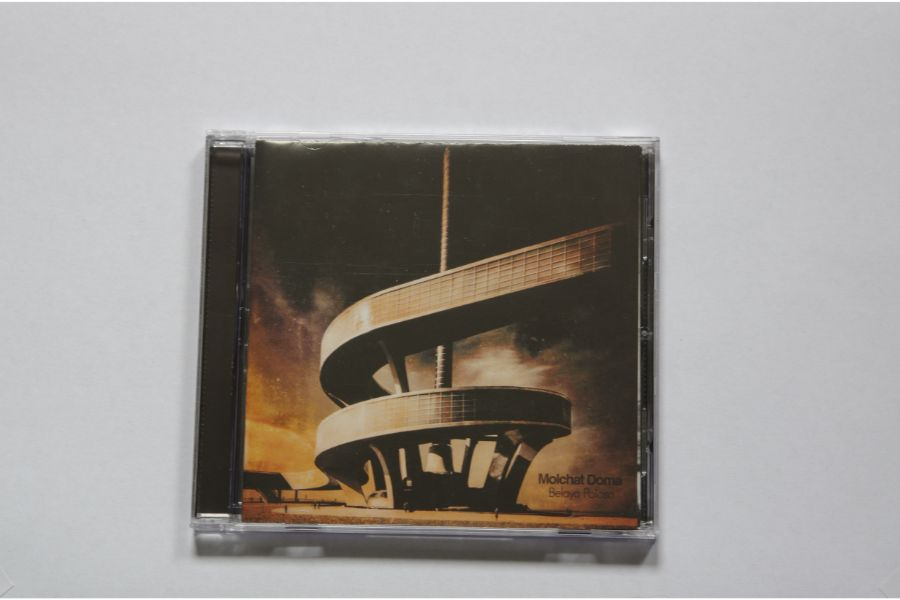album: (189, 130, 662, 543)
